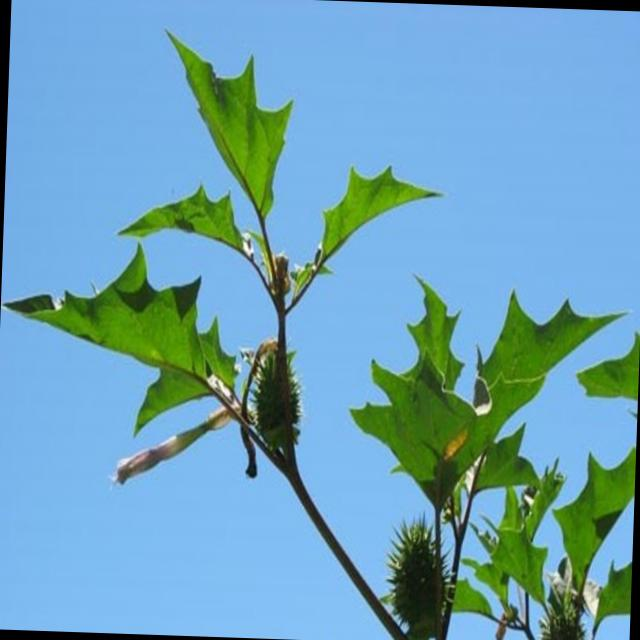Poisonous-Datura_Stramonium: (8, 9, 460, 514), (316, 282, 640, 640)
